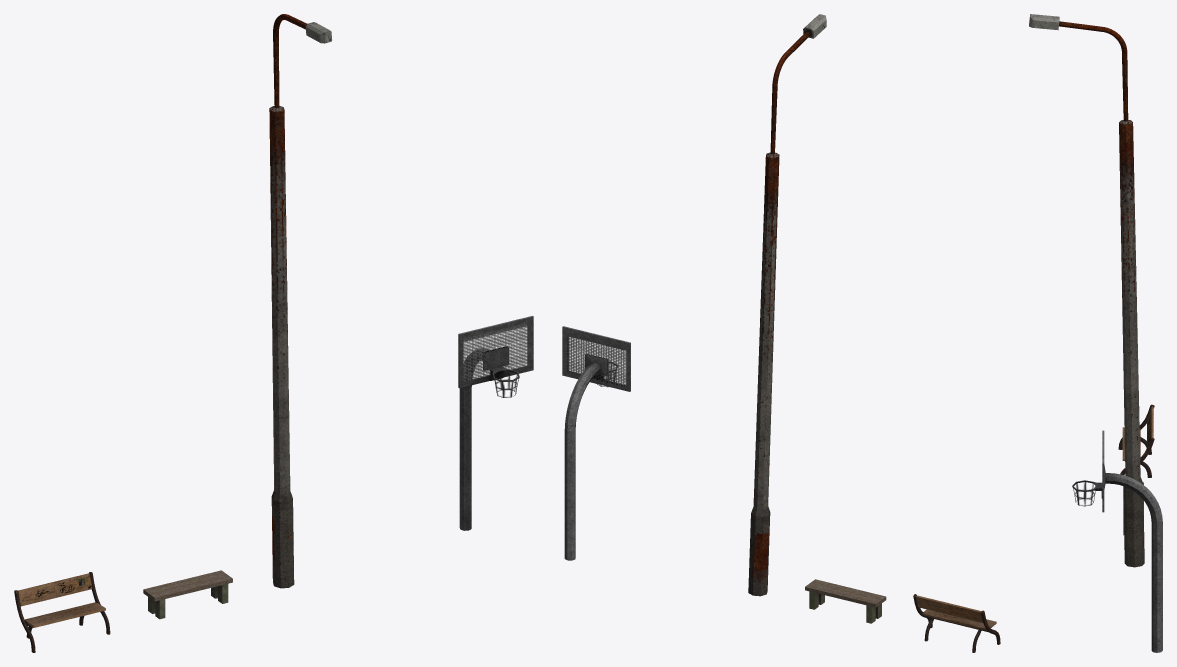
The model's file is assets.glb.
3 views of the same model, side by side, from view 1: azimuth 30°, elevation 25°; view 2: azimuth 150°, elevation 25°; view 3: azimuth 270°, elevation 25° (orthographic). The views are drawn at different scales.
Visible parts, largest first — view 1: Cube.007, Plane.004, BézierCurve, Cube; view 2: Cube.007, Plane.004, BézierCurve, Cube; view 3: Cube.007, Plane.004, BézierCurve.
Part boxes in pixels (x1,y1,x2,y2): Cube.007: [269, 14, 331, 588]; Plane.004: [458, 316, 533, 530]; BézierCurve: [14, 572, 110, 652]; Cube: [143, 570, 232, 619]; Cube.007: [748, 14, 826, 596]; Plane.004: [562, 326, 630, 560]; BézierCurve: [913, 594, 1000, 652]; Cube: [805, 579, 886, 623]; Cube.007: [1029, 14, 1144, 567]; Plane.004: [1072, 430, 1162, 652]; BézierCurve: [1118, 404, 1154, 477].
Size of the model in its own units: 13.19 by 15.36 by 3.43.
Materials: 4 (4 with a texture image).
